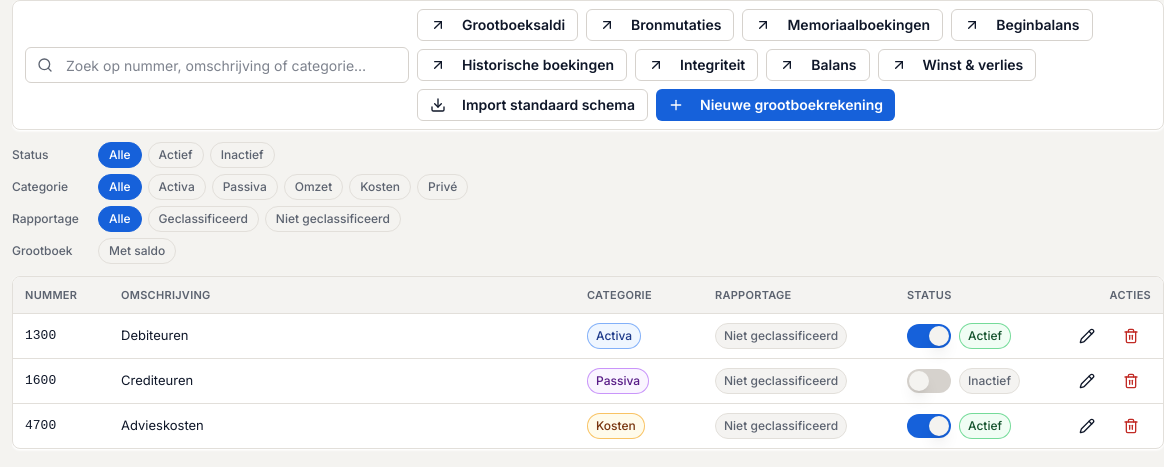
Test: Rekeningschema — zoeken en filters › filtert op categorie
Click the button "Passiva": x=245, y=187 top-left (212, 174), bottom-right (278, 200)
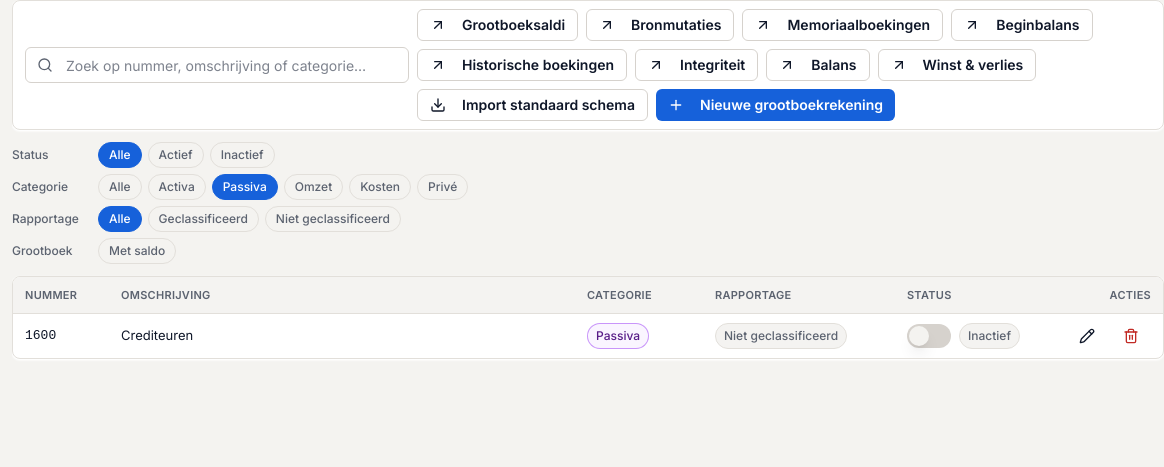
expect the text "Crediteuren" is shown: met, box top-left (109, 313), bottom-right (575, 358)
expect the text "Debiteuren" is gone: met
expect the text "Advieskosten" is gone: met
